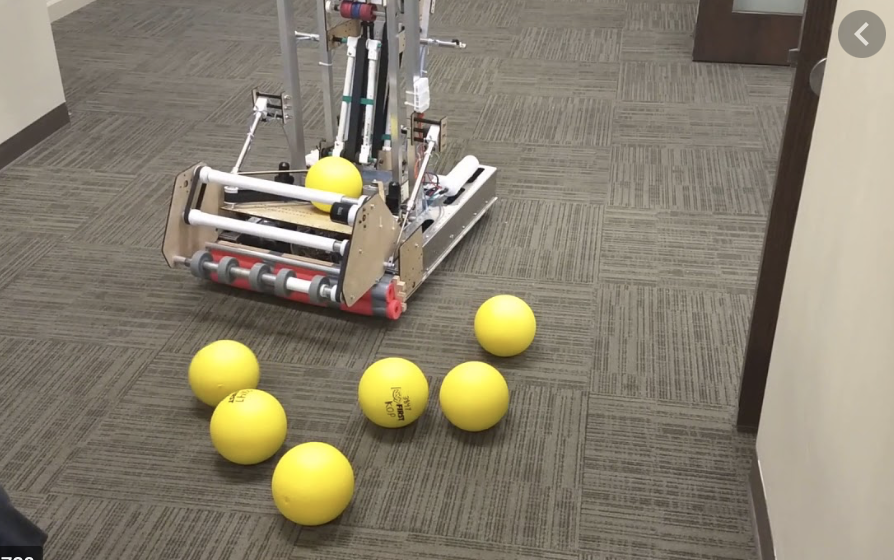powercell: (259, 446, 365, 525), (341, 353, 434, 434), (196, 393, 296, 460), (437, 356, 516, 438), (469, 288, 541, 359), (296, 152, 369, 217), (181, 342, 265, 395)
